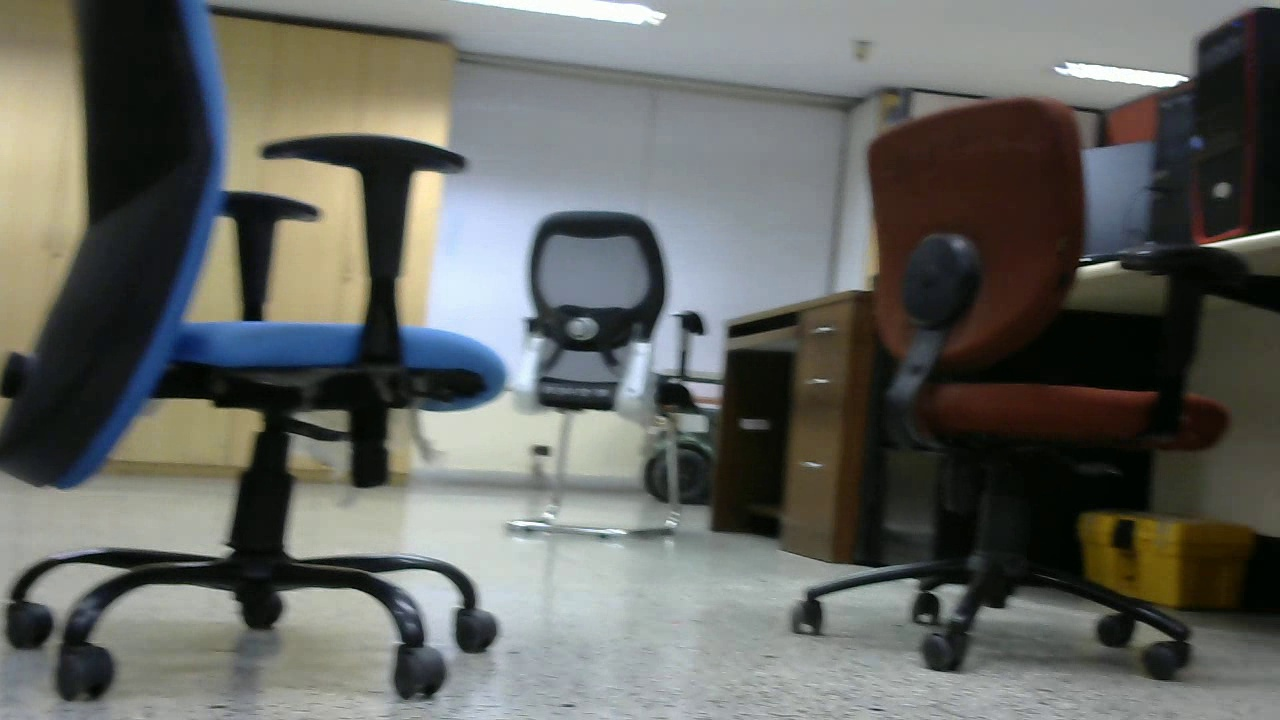chair: (27, 4, 491, 688), (832, 98, 1186, 664), (518, 208, 685, 541)
